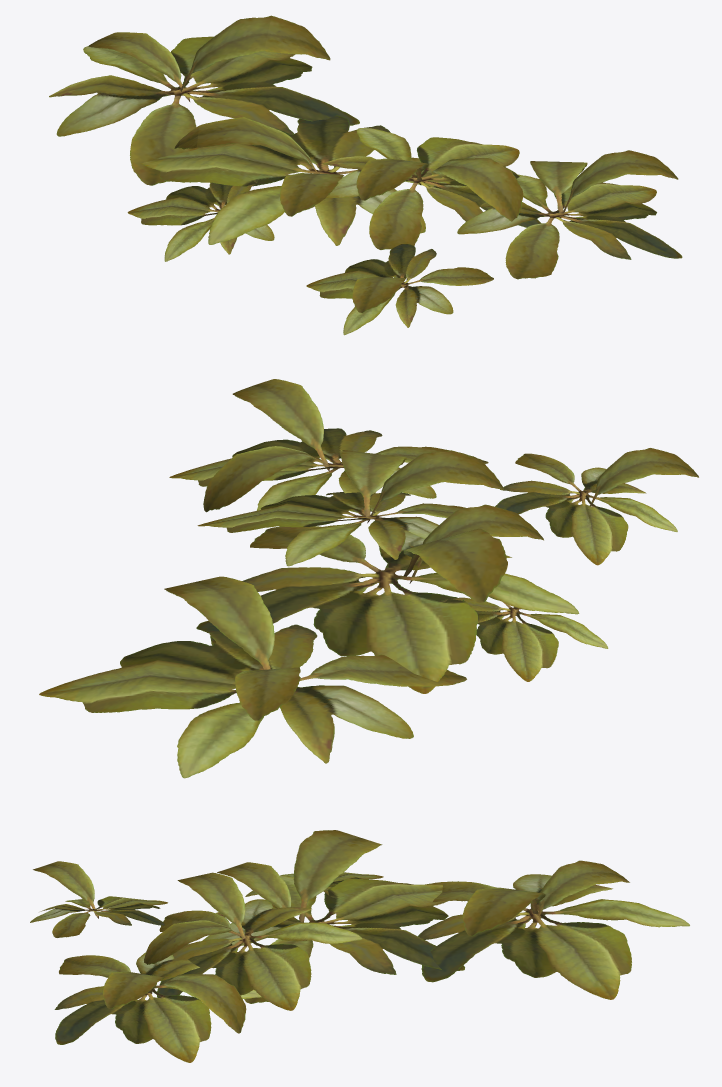
File: Dream_Plant04.FBX
3 views of the same model, one above another, from view 1: azimuth 30°, elevation 25°; view 2: azimuth 150°, elevation 25°; view 3: azimuth 270°, elevation 25° (orthographic). The views are drawn at different scales.
Visible parts, largest first — view 1: Dream_Plant04; view 2: Dream_Plant04; view 3: Dream_Plant04.
Part boxes in pixels (box(x1,y1,x2,y2)): Dream_Plant04: box(49, 15, 682, 335); Dream_Plant04: box(39, 379, 698, 778); Dream_Plant04: box(30, 830, 689, 1062).
Size of the model in its own units: 0.9604 by 0.1888 by 1.39.
